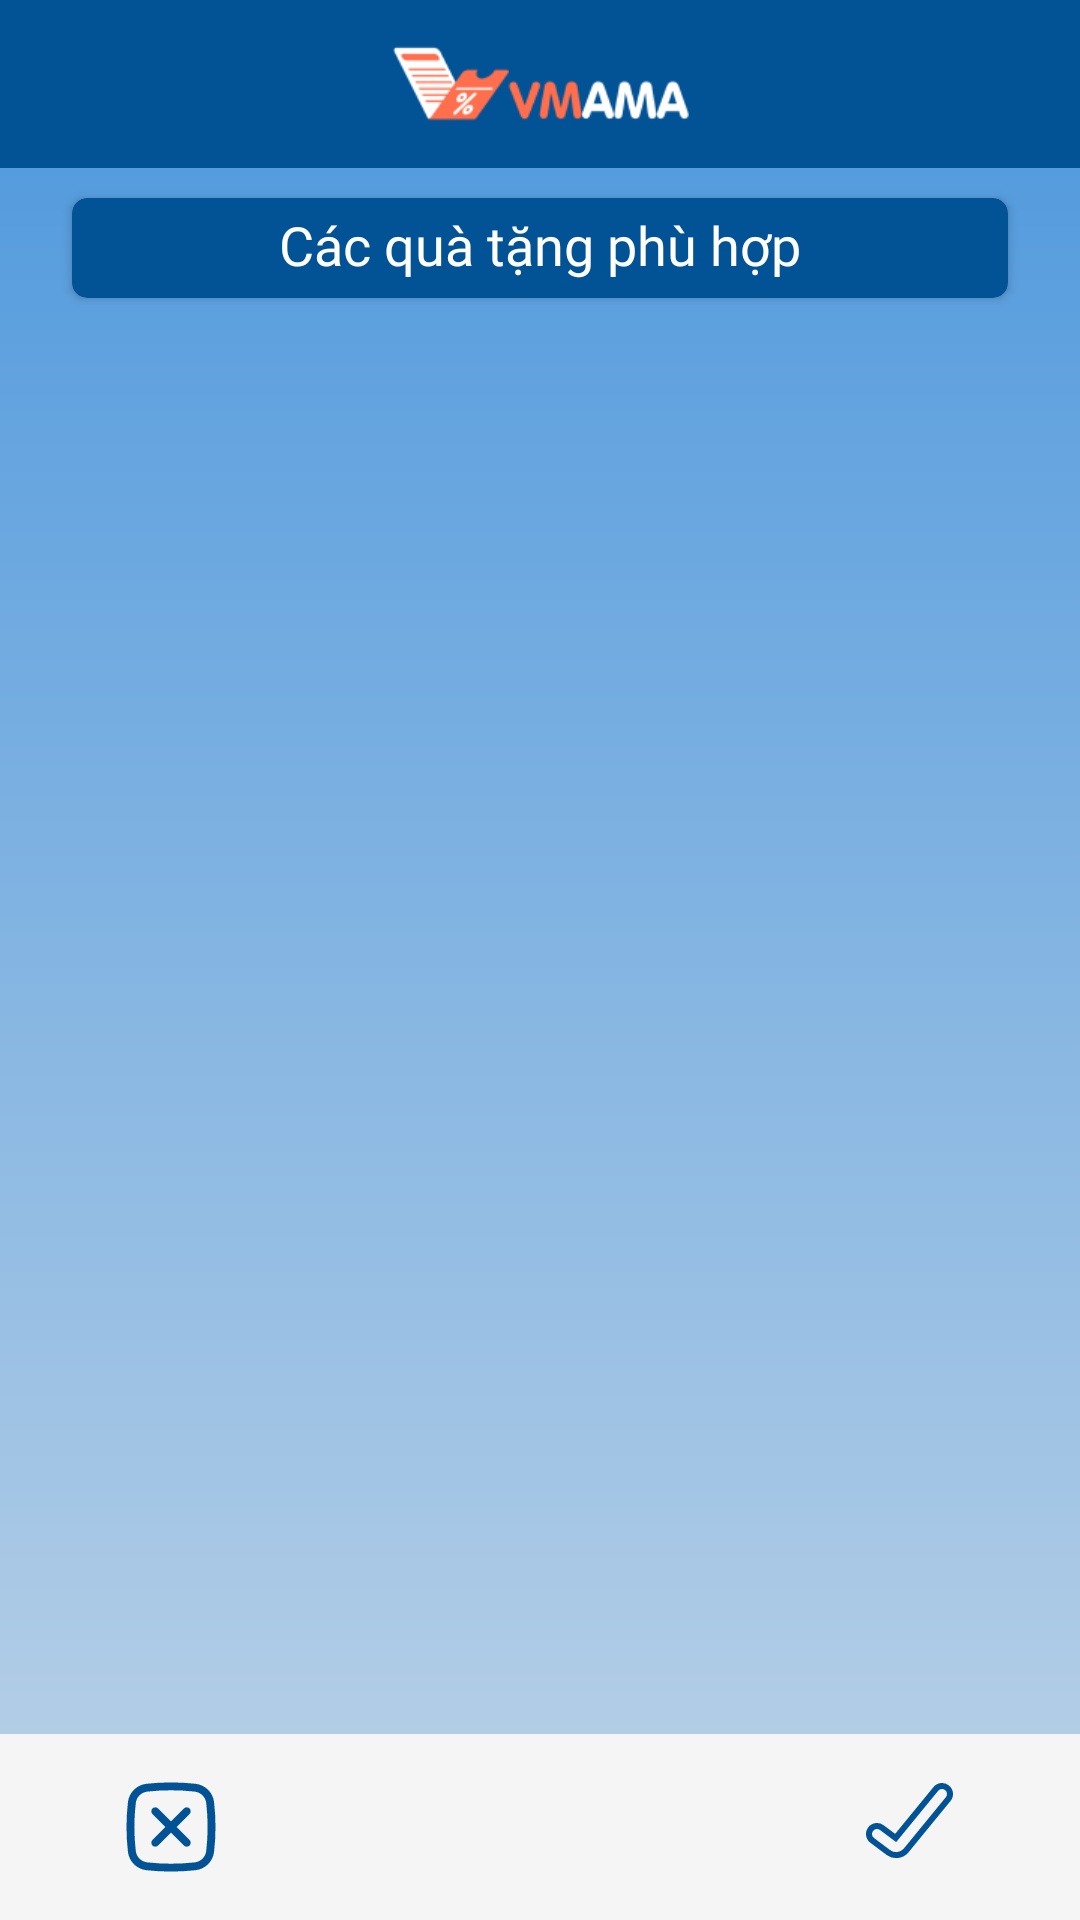

Screen size 1080 × 1920. Icon name, then its center in pixels as point (x, y):
done: point (909, 1820)
remove: point (171, 1827)
